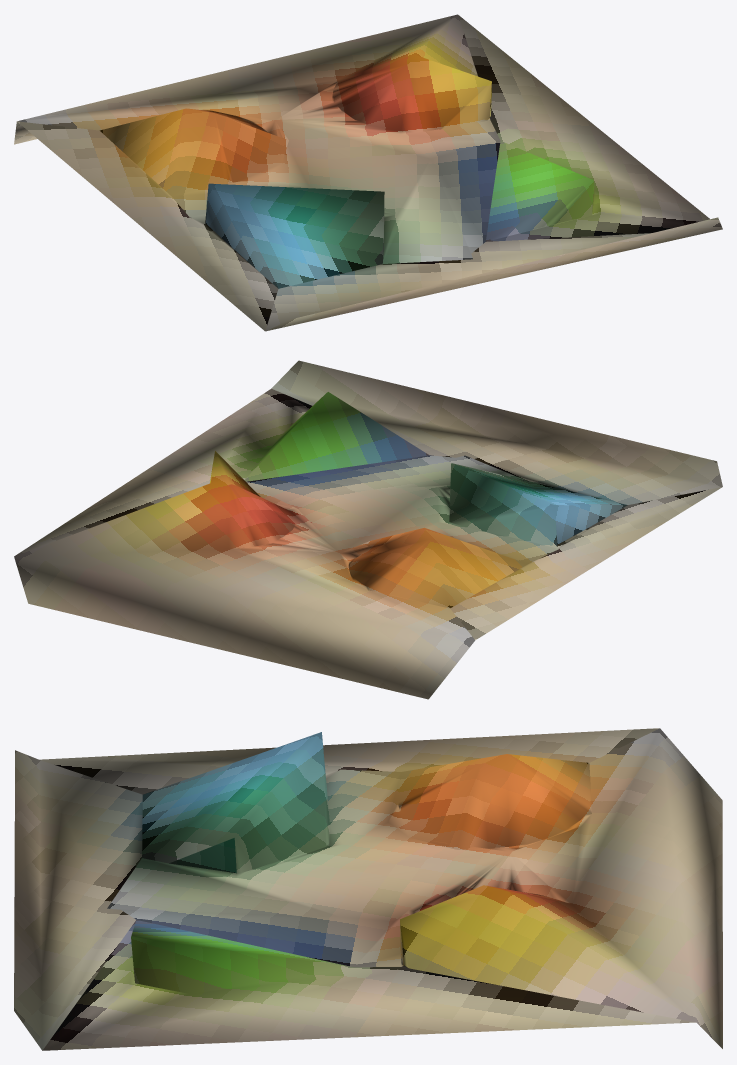
The model's file is SHAPE_MATCHING_NxacpAY9jDt-low.glb.
The picture shows the model from 3 angles, top to bottom: view 1: azimuth 30°, elevation 25°; view 2: azimuth 150°, elevation 25°; view 3: azimuth 270°, elevation 25°; orthographic projection. The views are drawn at different scales.
Parts seen in each view (by area): view 1: SHAPE_MATCHING_NxacpAY9jDt; view 2: SHAPE_MATCHING_NxacpAY9jDt; view 3: SHAPE_MATCHING_NxacpAY9jDt.
Boxes of the visible parts, left/top/right/bottom form: SHAPE_MATCHING_NxacpAY9jDt: left=14, top=14, right=722, bottom=331; SHAPE_MATCHING_NxacpAY9jDt: left=14, top=360, right=722, bottom=699; SHAPE_MATCHING_NxacpAY9jDt: left=14, top=728, right=722, bottom=1050.
Bounding box in the file's own units: 0.1722 × 0.0301 × 0.1858.
1 material, 1 textured.
